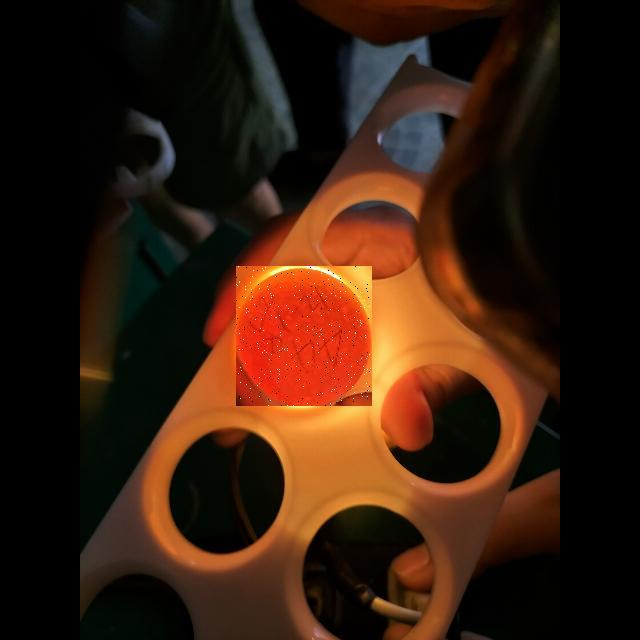Infertile: (236, 266, 372, 406)
